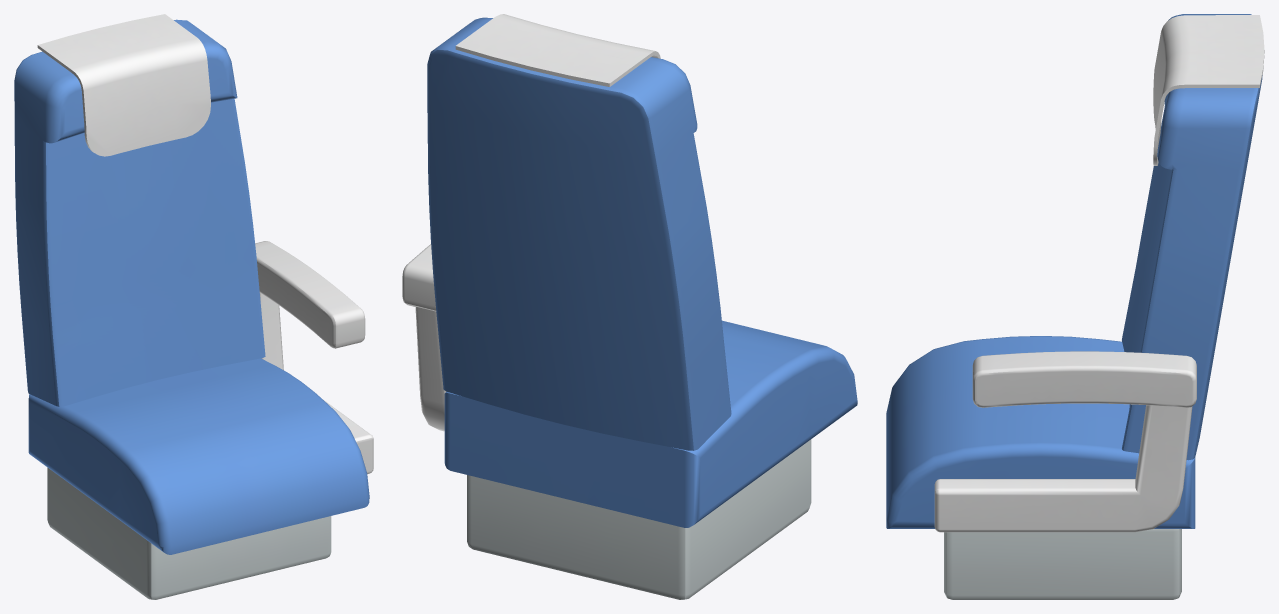
File: plane_seat.fbx
The picture shows the model from 3 angles, left to right: view 1: azimuth 30°, elevation 25°; view 2: azimuth 150°, elevation 25°; view 3: azimuth 270°, elevation 25°; orthographic projection. The views are drawn at different scales.
Parts seen in each view (by area): view 1: pCube54, group2_pCube51; view 2: pCube54, group2_pCube51; view 3: pCube54, group2_pCube51.
Boxes of the visible parts, <box> form: pCube54: <box>14,14,369,599</box>; group2_pCube51: <box>255,241,373,473</box>; pCube54: <box>427,14,857,599</box>; group2_pCube51: <box>402,244,446,431</box>; pCube54: <box>886,14,1264,599</box>; group2_pCube51: <box>934,351,1196,532</box>.
Size of the model in its own units: 9.32 by 16.52 by 11.25.
